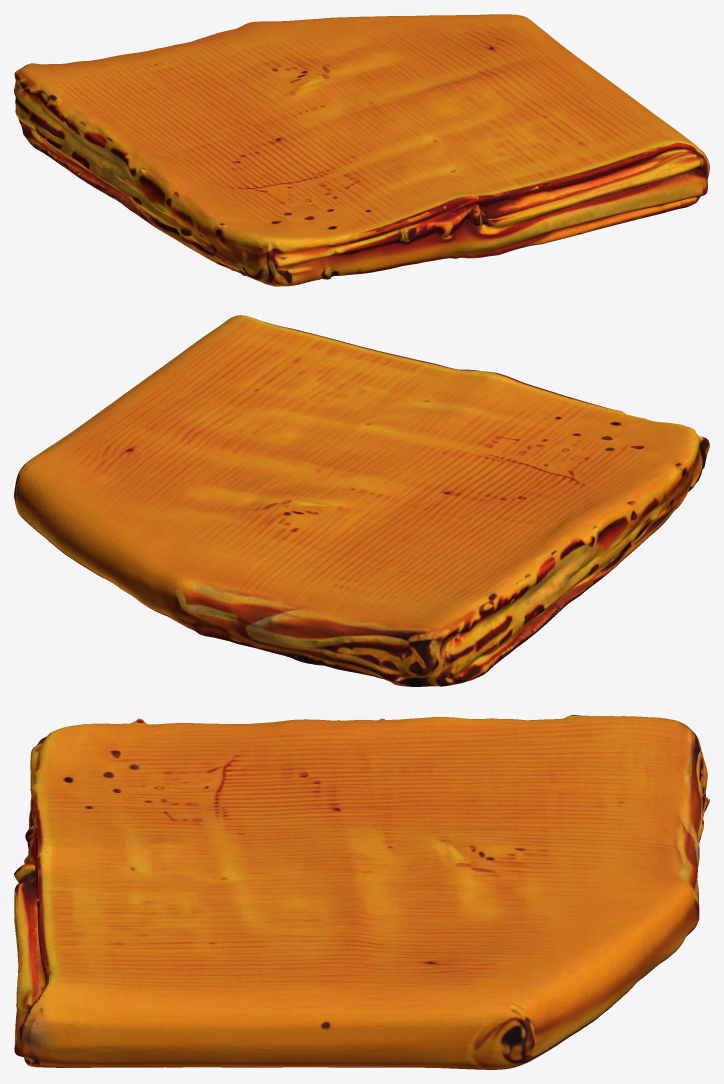
File: image_0002_segmented.glb
3 renders of one model, top to bottom at view 1: azimuth 30°, elevation 25°; view 2: azimuth 150°, elevation 25°; view 3: azimuth 270°, elevation 25°, orthographic. The views are drawn at different scales.
Visible parts, largest first — view 1: tmp2sauok51.ply; view 2: tmp2sauok51.ply; view 3: tmp2sauok51.ply.
Boxes of the visible parts, box(x1,y1,x2,y2) form: tmp2sauok51.ply: box(14, 14, 709, 286); tmp2sauok51.ply: box(14, 315, 709, 686); tmp2sauok51.ply: box(14, 715, 709, 1069).
Size of the model in its own units: 1.99 by 0.2826 by 2.
1 material, 1 textured.
